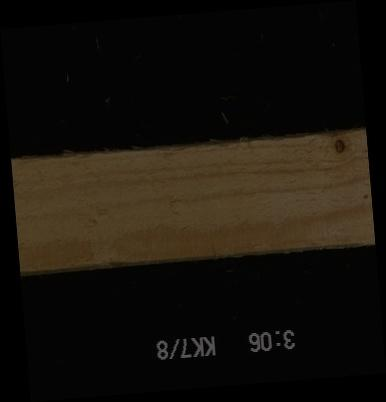dry_knot: (328, 136, 347, 154)
